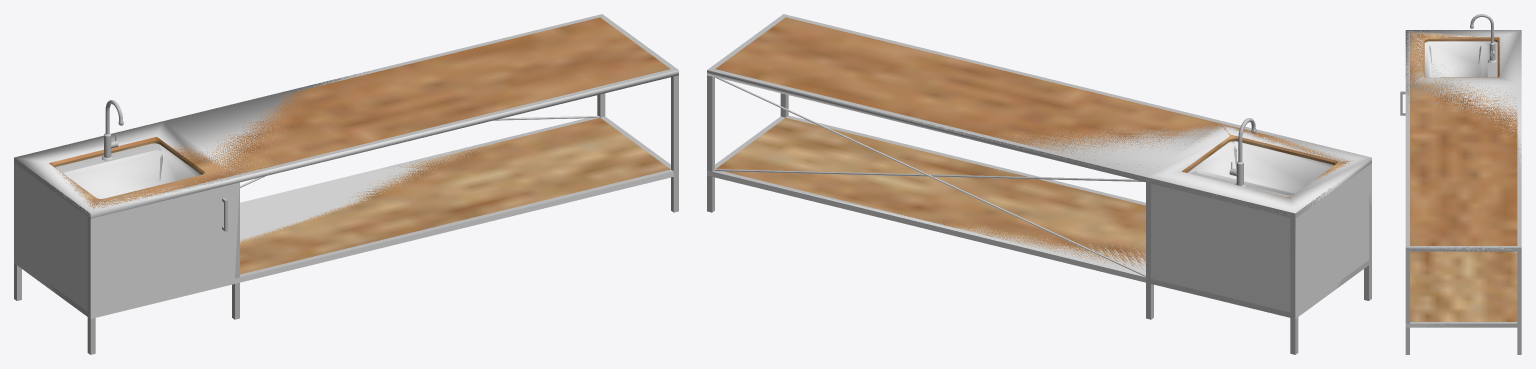
File: Table.fbx
The picture shows the model from 3 angles, left to right: view 1: azimuth 30°, elevation 25°; view 2: azimuth 150°, elevation 25°; view 3: azimuth 270°, elevation 25°; orthographic projection. The views are drawn at different scales.
Parts seen in each view (by area): view 1: Table, Col, Faucet; view 2: Table, Col, Faucet; view 3: Table, Col, Faucet.
Part boxes in pixels (bbox=[...]): Table: bbox=[14, 14, 678, 354]; Col: bbox=[14, 70, 678, 318]; Faucet: bbox=[101, 100, 123, 161]; Table: bbox=[707, 14, 1371, 354]; Col: bbox=[707, 70, 1371, 318]; Faucet: bbox=[1232, 118, 1256, 187]; Table: bbox=[1400, 30, 1521, 354]; Col: bbox=[1405, 30, 1521, 327]; Faucet: bbox=[1470, 14, 1496, 62].
Bounding box in the file's own units: 2.33 × 0.5477 × 0.7512.
